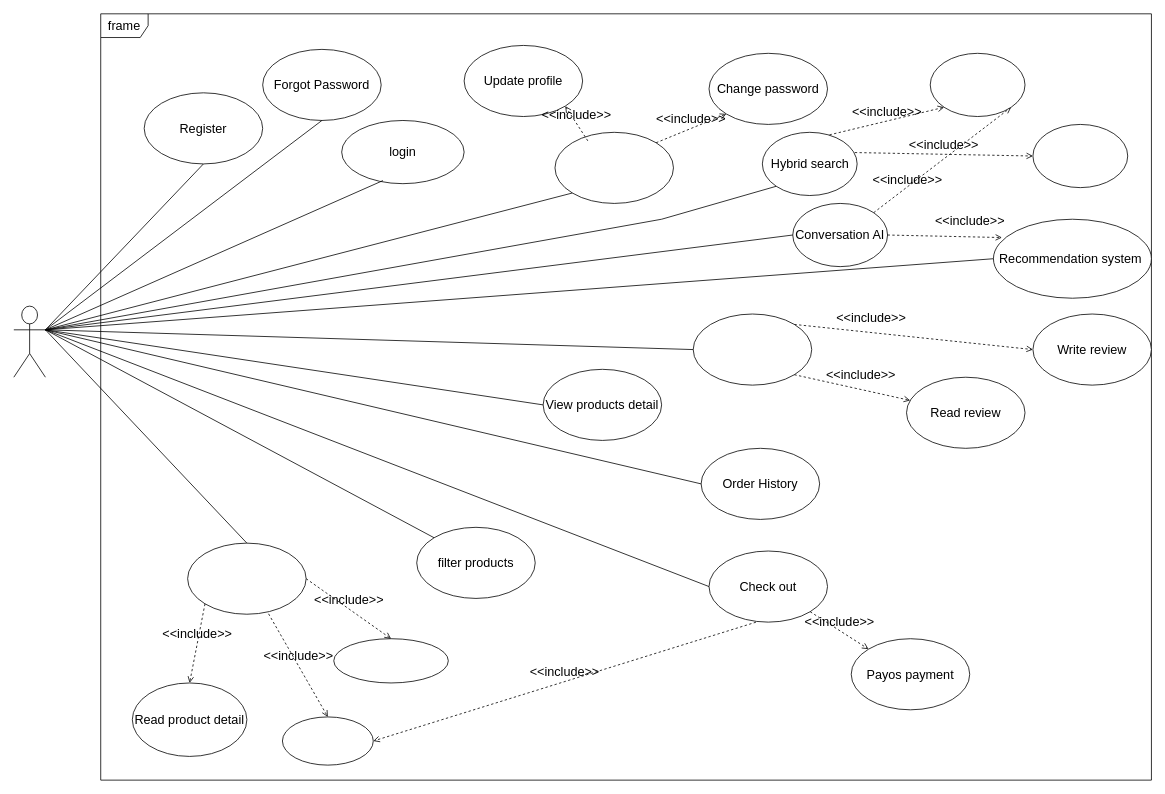
Some shapes in this 1165 by 794 pixel diagram are drawn without their labels. The shapes that lost their labels are listed below. From the top down, each one's centre as x and y in pixels, then its label:
At pixel 977 85: "Image search".
At pixel 613 167: "Manage profile".
At pixel 1080 156: "Semantic search".
At pixel 29 341: "User".
At pixel 752 349: "Review products".
At pixel 246 578: "Add to cart".
At pixel 390 660: "Update cart".
At pixel 327 740: "Read cart".
